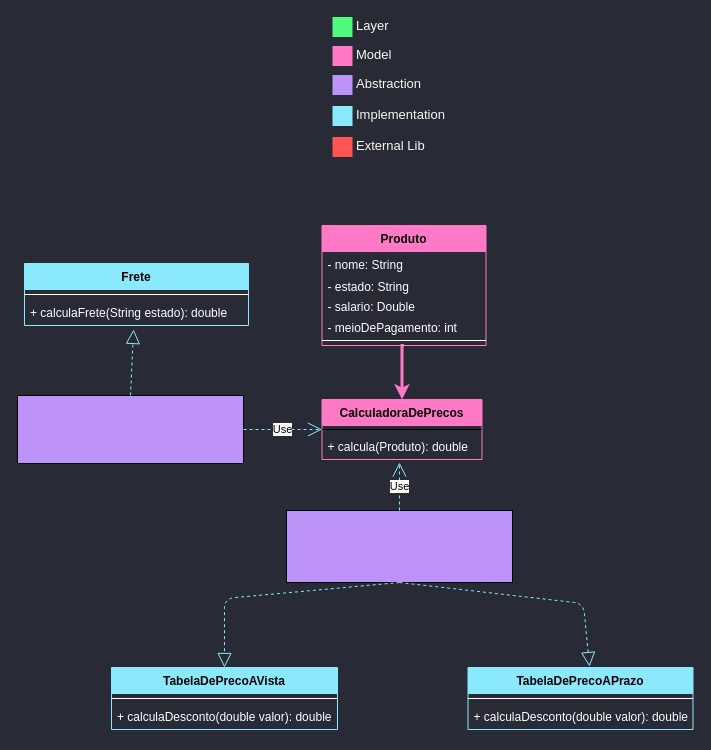
Some shapes in this 711 by 750 pixel diagram are drawn without their labels. Each missing label, with the centre of its shape:
<<Interface>> ServicoDeFrete + calculaFrete(String: estado): double: point 130,429
<<Interface>> TabelaDePreco + calculaDesconto(double valor): double: point 399,546
